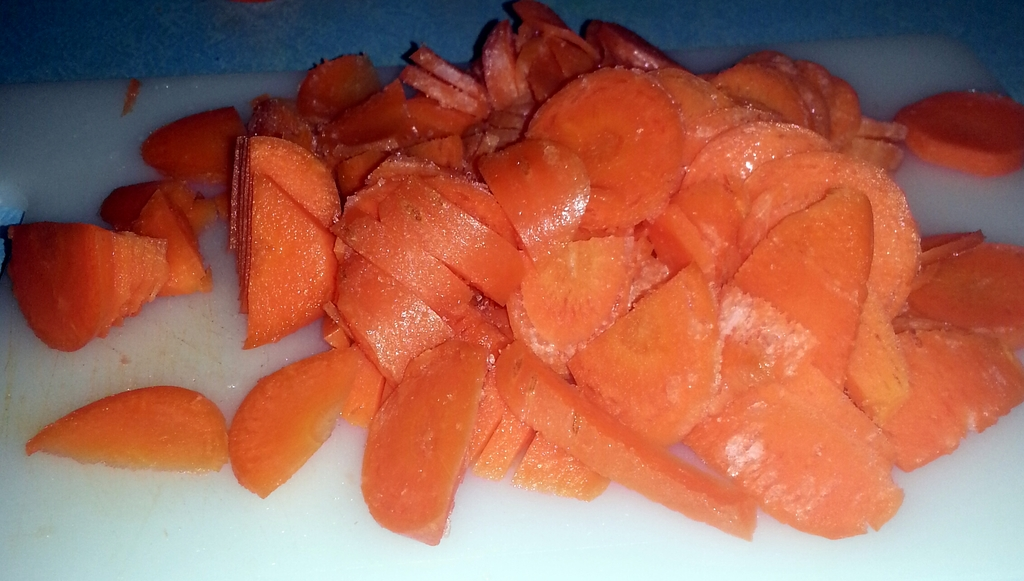Carrot: (0, 0, 1023, 547)
